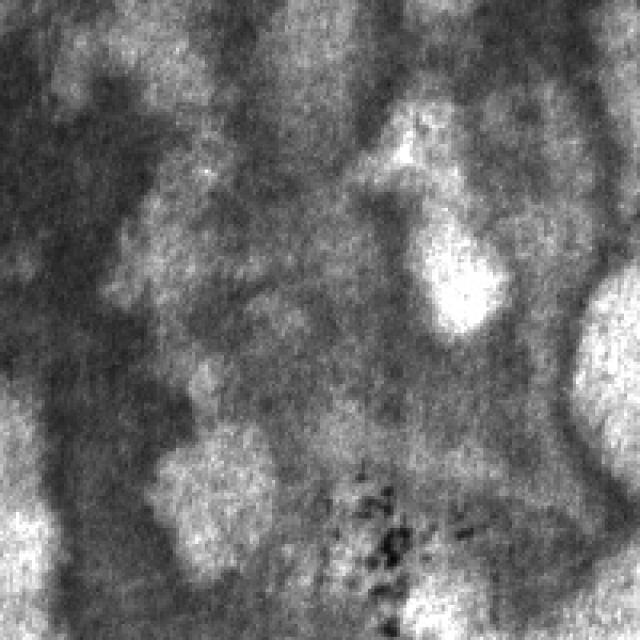inclusion: (346, 474, 467, 598)
patches: (192, 0, 637, 608), (0, 0, 186, 637)
